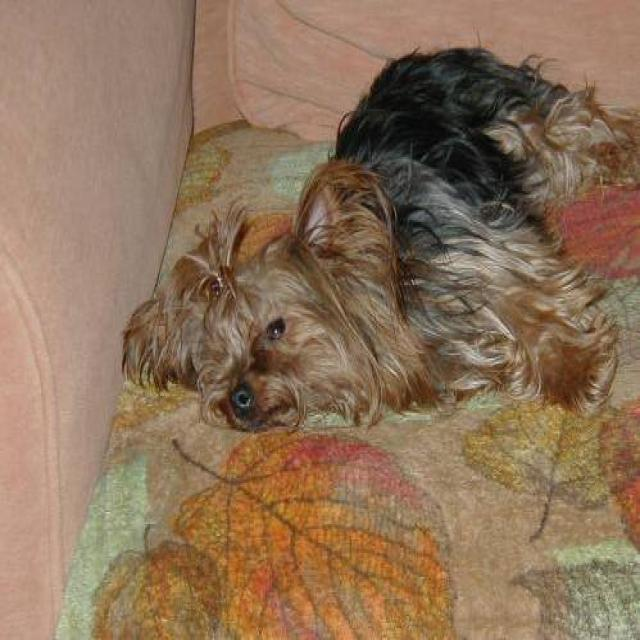dog: (119, 42, 639, 434)
